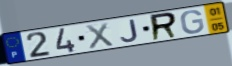2: (26, 31, 53, 59)
4: (55, 27, 78, 54)
G: (180, 9, 206, 35)
J: (120, 18, 140, 43)
R: (149, 11, 179, 43)
X: (84, 21, 115, 51)
